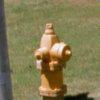Hydrant: (29, 16, 71, 97)
